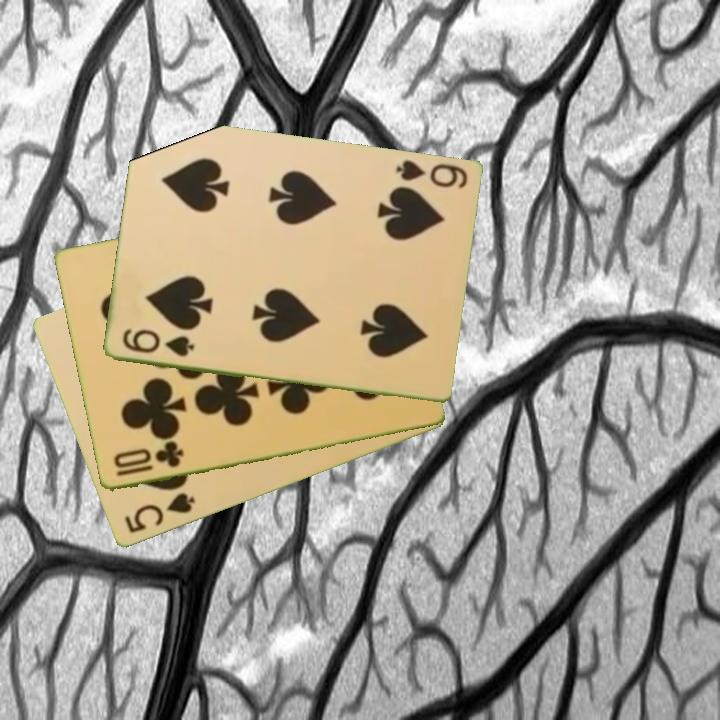10c: (110, 440, 186, 480)
5s: (120, 489, 198, 537)
6s: (392, 156, 470, 192), (118, 325, 197, 360)
